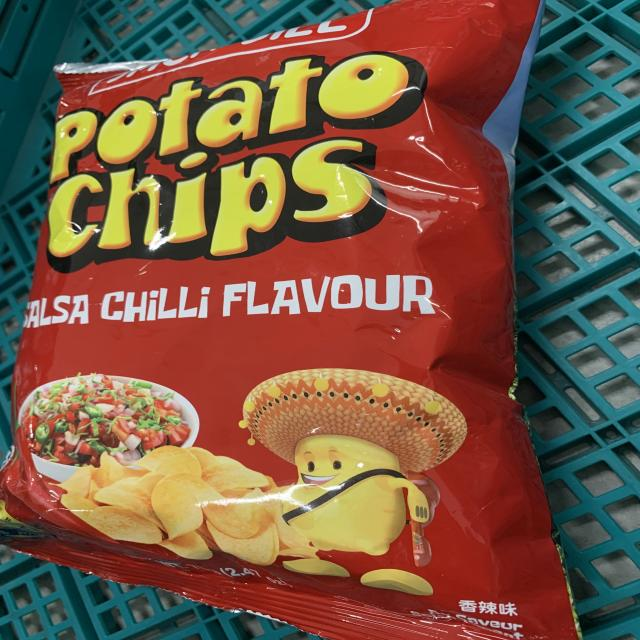object_name: (57, 59, 489, 573)
